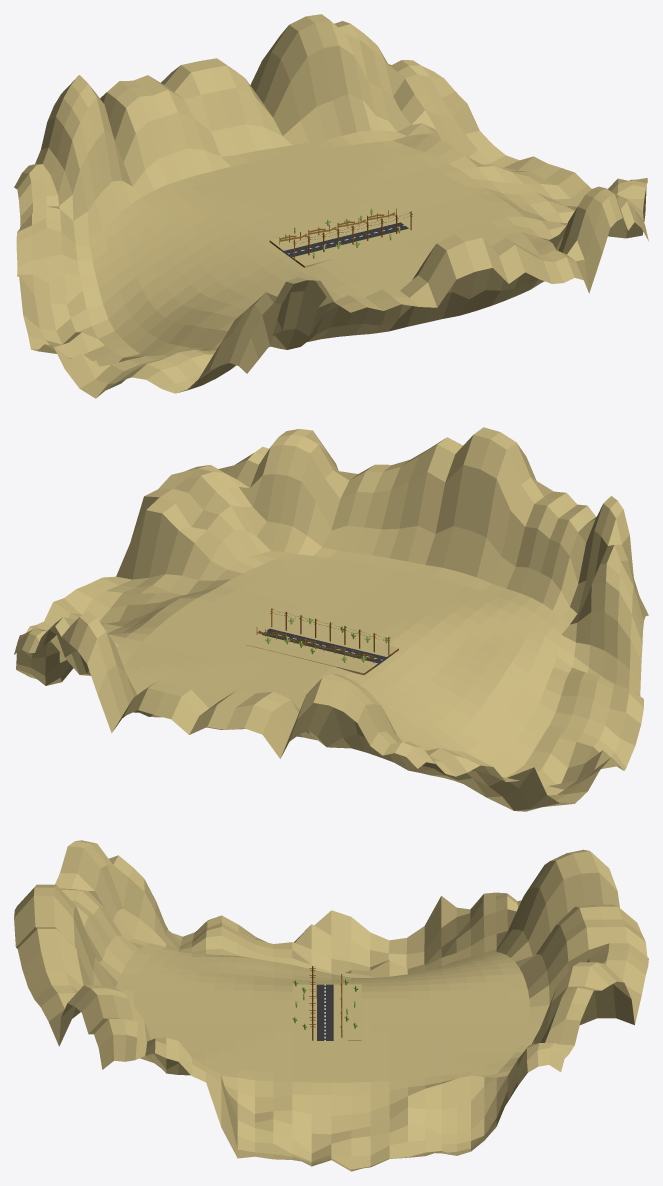
File: Desert_Road.fbx
The picture shows the model from 3 angles, top to bottom: view 1: azimuth 30°, elevation 25°; view 2: azimuth 150°, elevation 25°; view 3: azimuth 270°, elevation 25°; orthographic projection.
Parts seen in each view (by area): view 1: Plane, Cylinder.001; view 2: Plane, Cylinder.001; view 3: Plane, Cylinder.001.
Part boxes in pixels (x1,y1,x2,y2): Plane: [14, 14, 648, 398]; Cylinder.001: [269, 211, 412, 267]; Plane: [14, 427, 648, 811]; Cylinder.001: [247, 608, 398, 675]; Plane: [14, 840, 648, 1171]; Cylinder.001: [292, 966, 361, 1040].
Bounding box in the file's own units: 15246 × 5087 × 15246.
